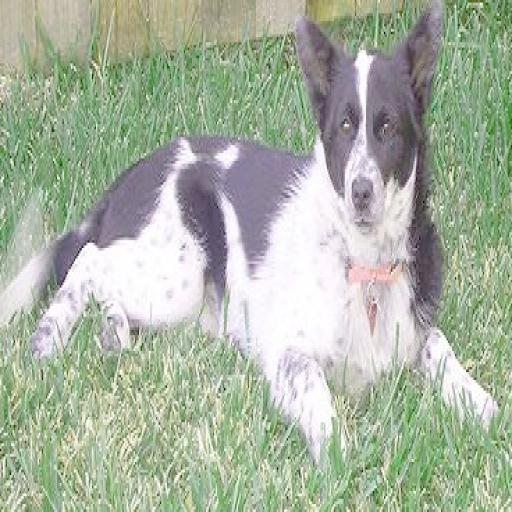dog_face: (302, 0, 445, 227)
